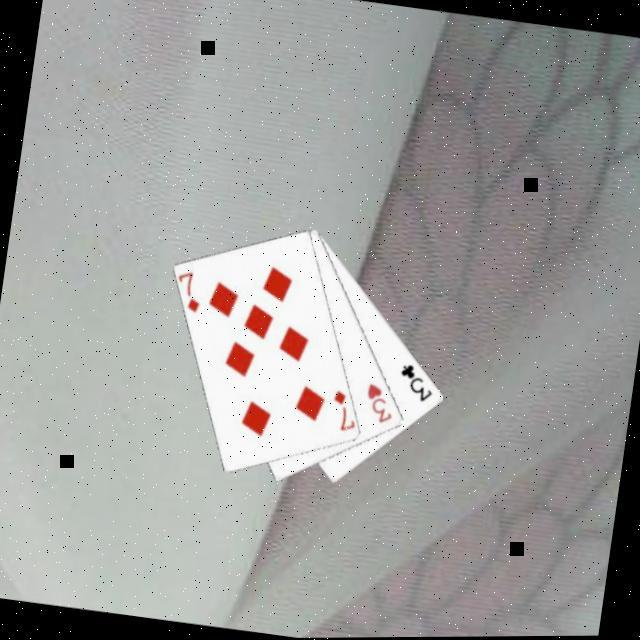3C: (394, 361, 440, 408)
3H: (360, 382, 400, 430)
7D: (173, 268, 209, 318), (327, 388, 362, 438)
